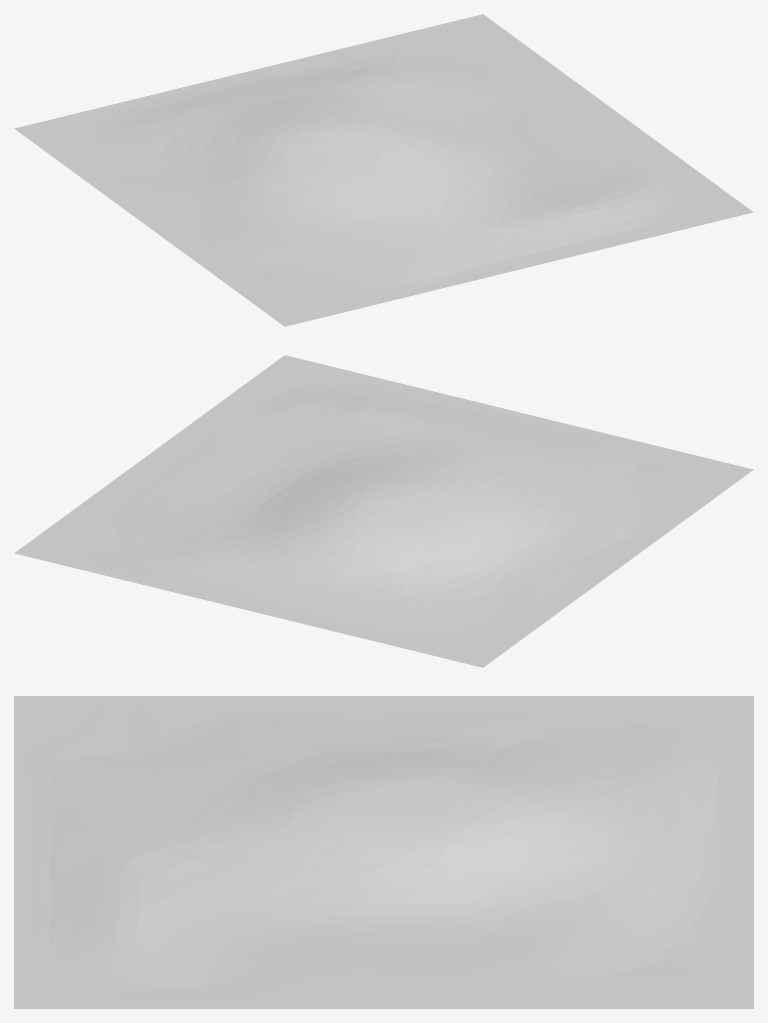
File: Terrain_22.glb
The picture shows the model from 3 angles, top to bottom: view 1: azimuth 30°, elevation 25°; view 2: azimuth 150°, elevation 25°; view 3: azimuth 270°, elevation 25°; orthographic projection. The views are drawn at different scales.
Parts seen in each view (by area): view 1: Terrain_22; view 2: Terrain_22; view 3: Terrain_22.
Boxes of the visible parts, box(x1,y1,x2,y2) form: Terrain_22: box(14, 14, 753, 326); Terrain_22: box(14, 355, 753, 667); Terrain_22: box(14, 696, 753, 1008).
Bounding box in the file's own units: 128 × 4.14 × 128.
1 material, 1 textured.
